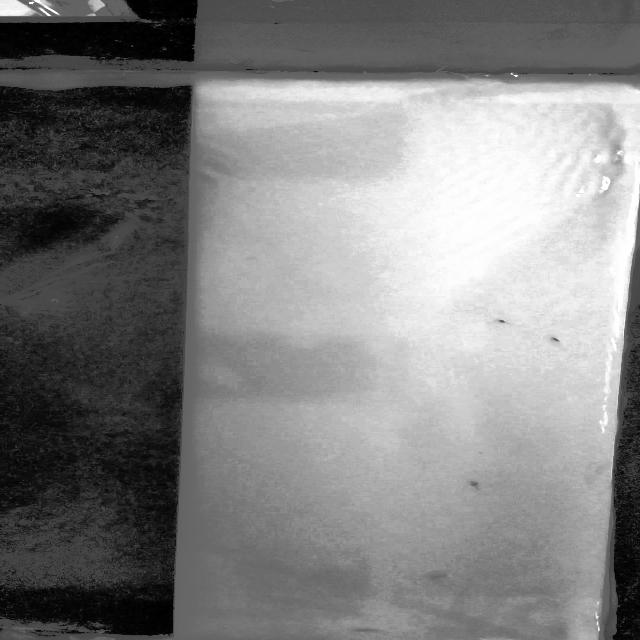shrimp: (543, 331, 569, 349), (424, 569, 460, 581), (466, 476, 498, 488), (484, 318, 520, 327)
